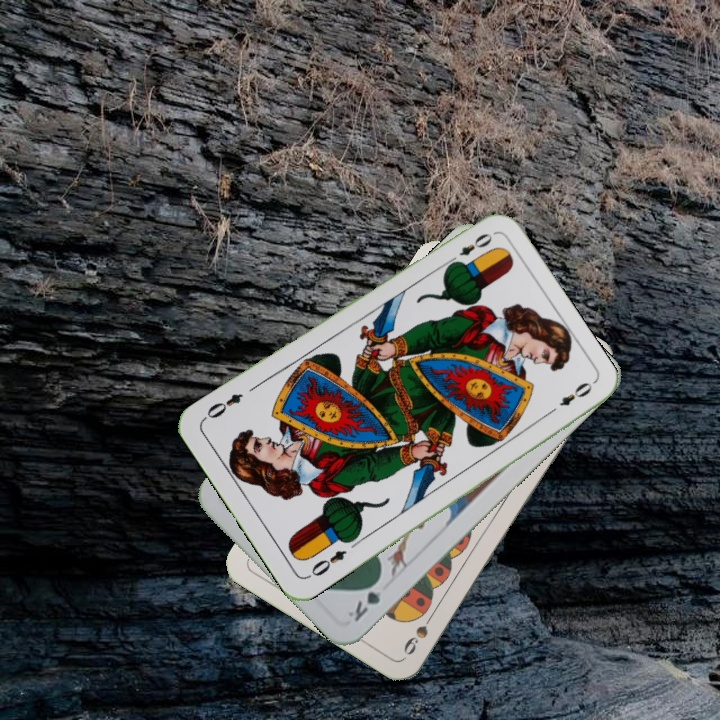EO: (443, 229, 495, 268), (303, 546, 349, 581)
GK: (344, 573, 385, 625)
S9: (399, 606, 439, 658)
